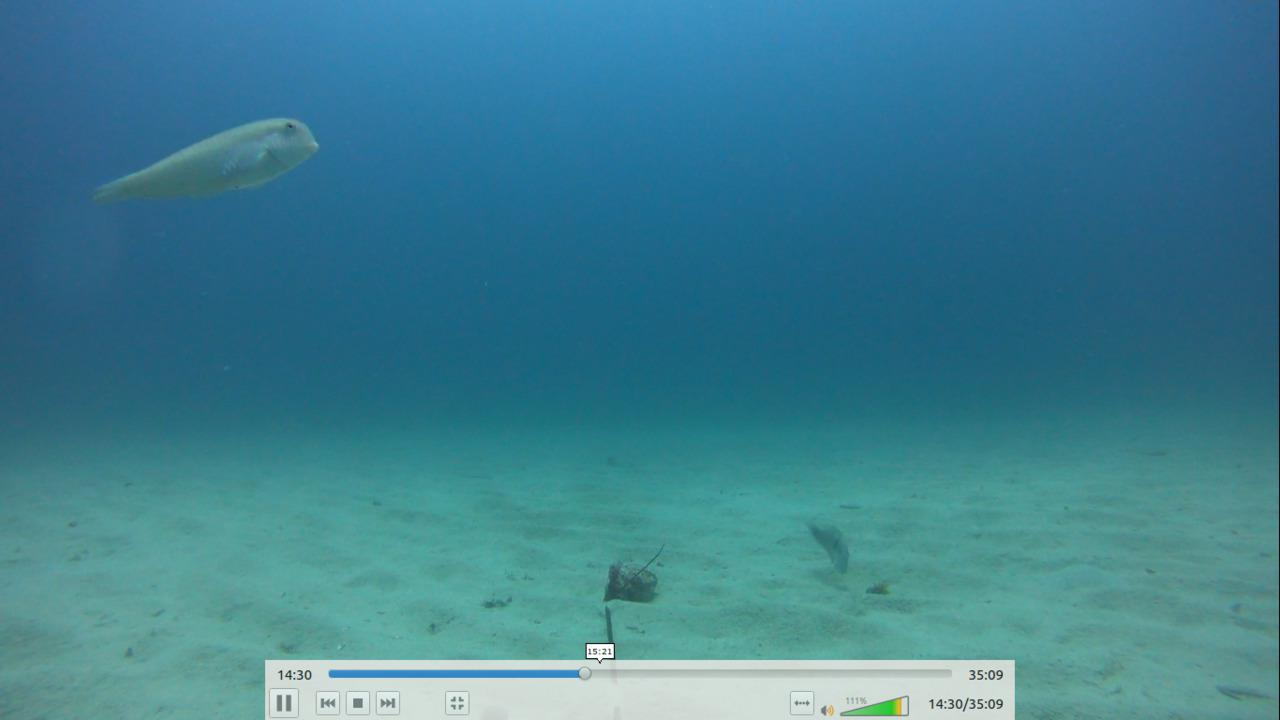raor: (80, 108, 321, 205), (800, 518, 858, 575)
